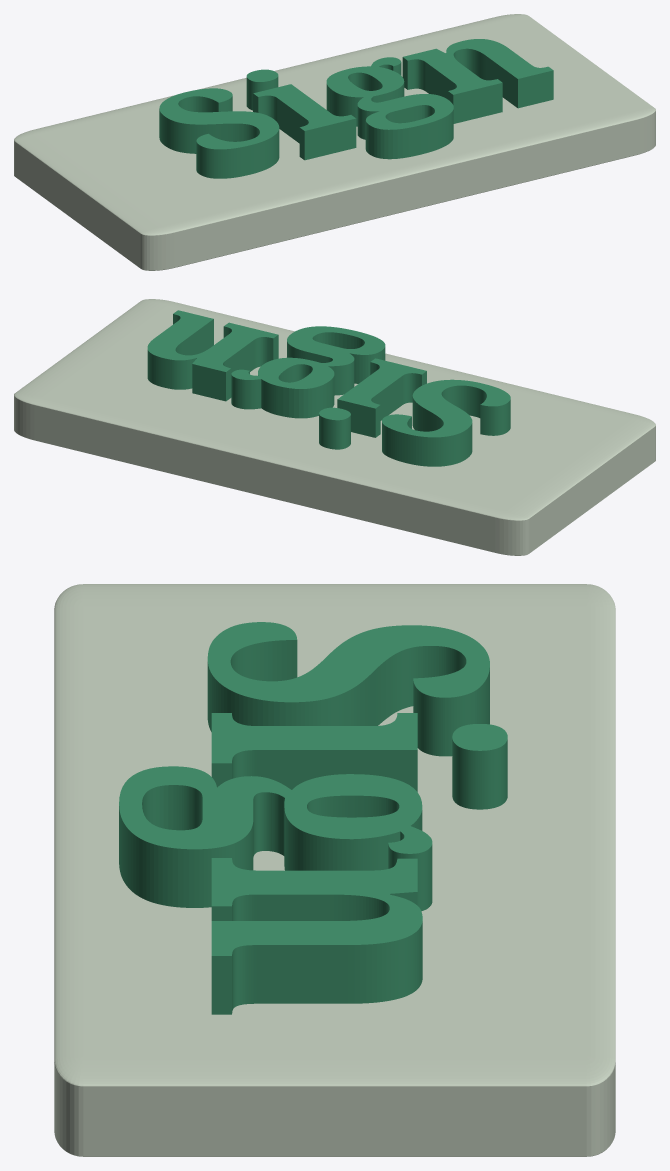
Rendered from Sign.glb.
The picture shows the model from 3 angles, top to bottom: view 1: azimuth 30°, elevation 25°; view 2: azimuth 150°, elevation 25°; view 3: azimuth 270°, elevation 25°; orthographic projection. The views are drawn at different scales.
Parts seen in each view (by area): view 1: Mesh_Mesh_head_geo.001_lambert2SG.001; view 2: Mesh_Mesh_head_geo.001_lambert2SG.001; view 3: Mesh_Mesh_head_geo.001_lambert2SG.001.
Part boxes in pixels (x1,y1,x2,y2): Mesh_Mesh_head_geo.001_lambert2SG.001: (14, 14, 655, 270); Mesh_Mesh_head_geo.001_lambert2SG.001: (14, 299, 655, 555); Mesh_Mesh_head_geo.001_lambert2SG.001: (54, 584, 615, 1156).
Size of the model in its own units: 55 by 7 by 26.
